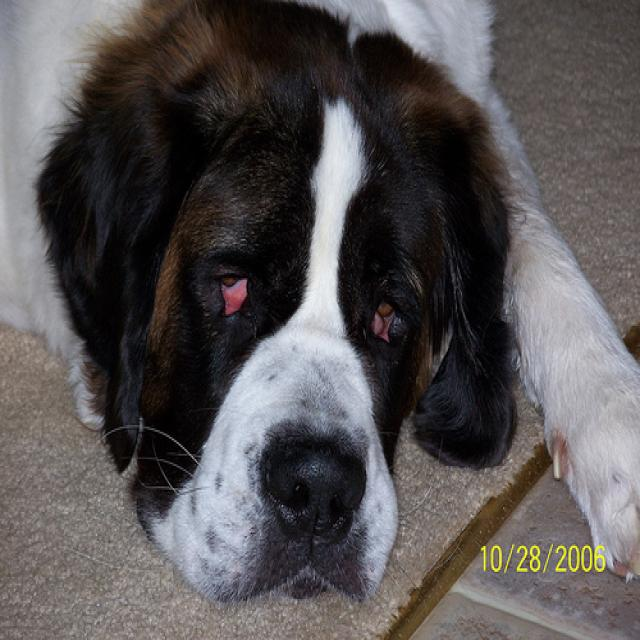dog-saint_bernard: (1, 2, 637, 621)
